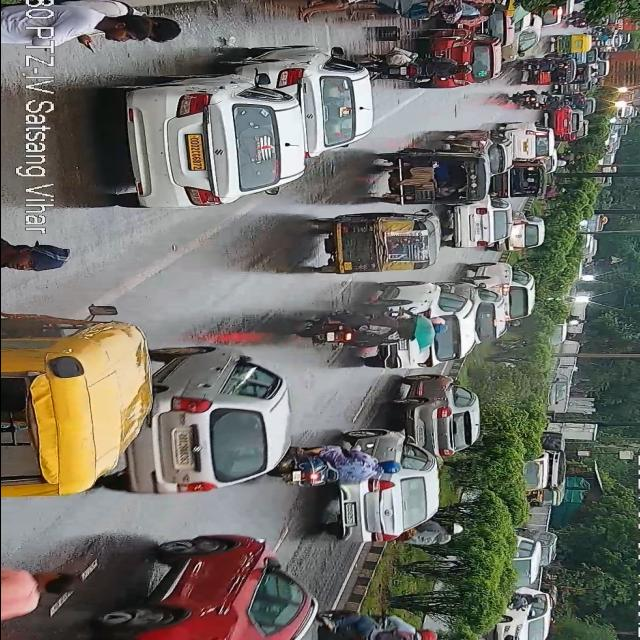2-wheelers: (299, 305, 451, 357), (287, 442, 405, 489), (0, 564, 82, 620), (328, 610, 436, 640), (369, 50, 474, 80), (510, 90, 556, 108), (547, 56, 579, 81), (520, 56, 560, 75), (572, 66, 598, 90), (509, 592, 539, 608), (559, 152, 581, 167), (546, 184, 566, 198)
auto: (0, 308, 150, 491), (311, 205, 441, 278), (366, 146, 486, 208), (496, 166, 543, 201), (520, 59, 564, 88), (551, 34, 593, 59), (524, 492, 564, 512)
car: (102, 524, 323, 640), (120, 74, 305, 209), (120, 356, 288, 502), (258, 51, 374, 150), (334, 425, 436, 537), (231, 542, 319, 640), (390, 278, 468, 372), (400, 378, 482, 460), (432, 30, 501, 91), (467, 262, 536, 319), (448, 282, 512, 342), (448, 121, 510, 178), (447, 194, 509, 250), (502, 589, 552, 640), (504, 7, 542, 63), (509, 122, 554, 164), (545, 108, 587, 142), (507, 220, 543, 252), (571, 96, 596, 115)
pedestrian: (76, 0, 179, 48), (0, 240, 71, 276), (297, 1, 379, 24), (352, 0, 456, 18), (452, 0, 501, 22)
truck: (599, 51, 640, 116), (519, 436, 562, 490)
